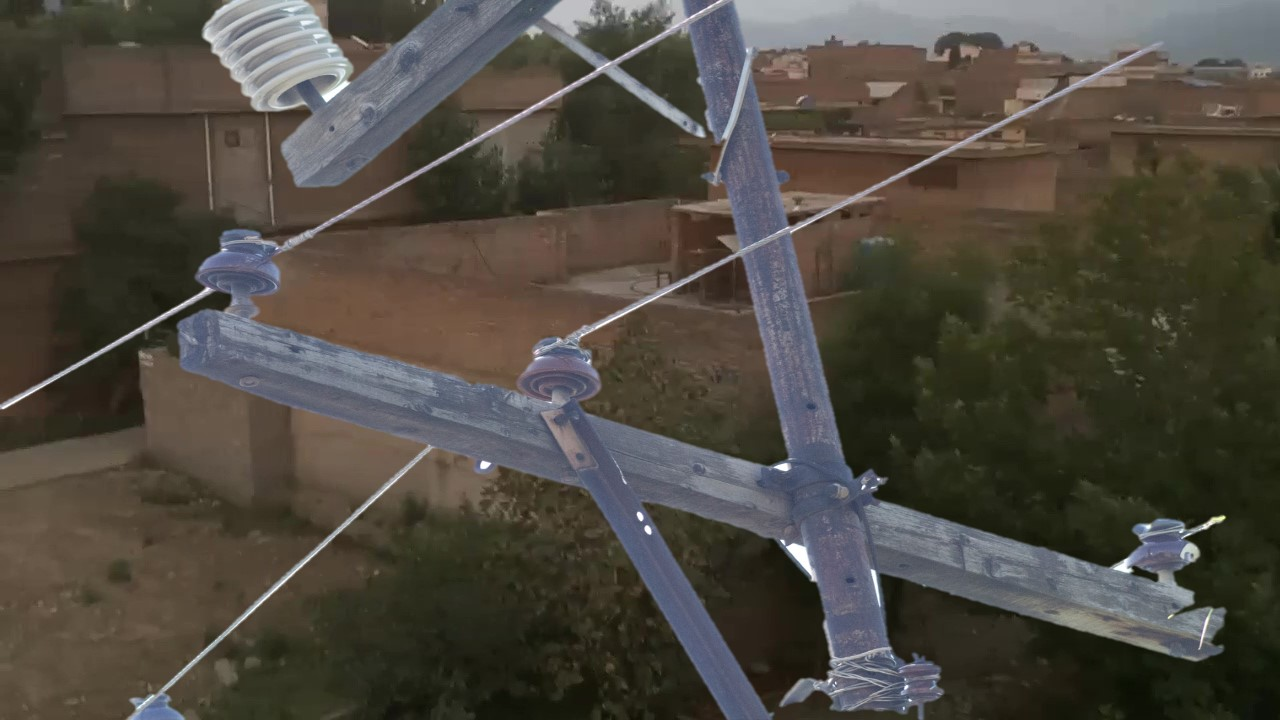insulator_pin: (192, 217, 290, 310), (517, 331, 607, 407), (1121, 506, 1208, 580)
